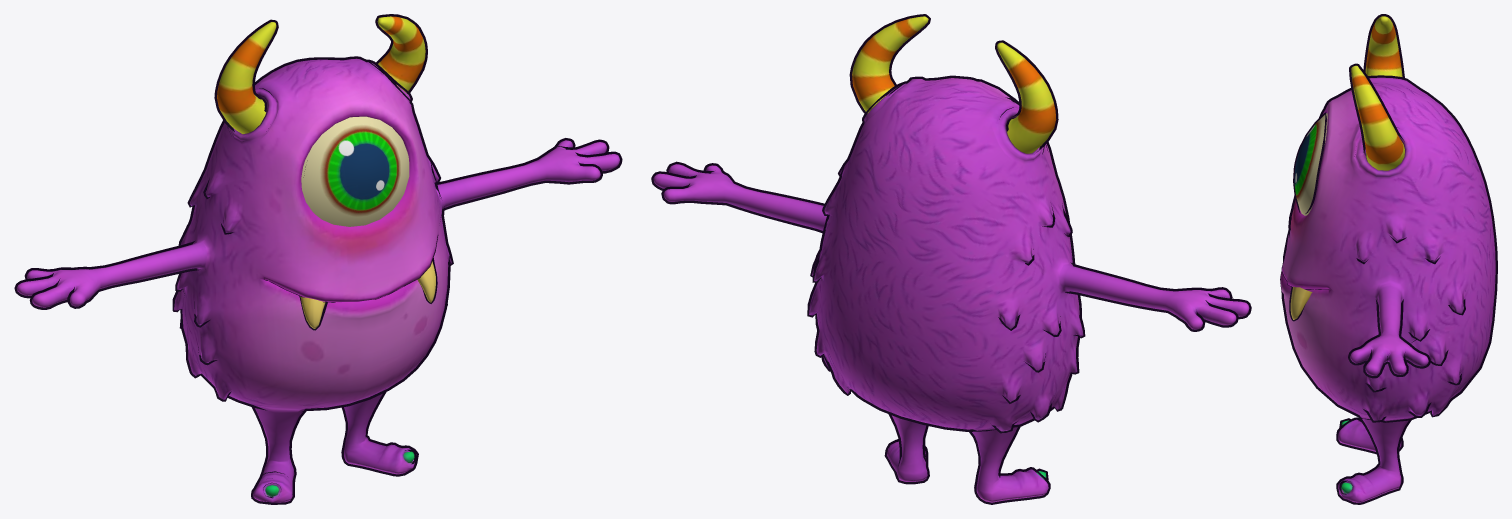
File: kit_monster_c.glb
3 views of the same model, side by side, from view 1: azimuth 30°, elevation 25°; view 2: azimuth 150°, elevation 25°; view 3: azimuth 270°, elevation 25° (orthographic). The views are drawn at different scales.
Parts seen in each view (by area): view 1: geo_monster_C_body, geo_monster_C_eye, geo_monster_C_outLine; view 2: geo_monster_C_body, geo_monster_C_outLine; view 3: geo_monster_C_body, geo_monster_C_outLine, geo_monster_C_eye.
Boxes of the visible parts, x1,y1,x2,y2 form: geo_monster_C_body: (17,16,619,502); geo_monster_C_eye: (301,116,409,226); geo_monster_C_outLine: (14,14,622,504); geo_monster_C_body: (653,16,1249,502); geo_monster_C_outLine: (651,14,1251,504); geo_monster_C_body: (1280,16,1495,502); geo_monster_C_outLine: (1280,14,1497,504); geo_monster_C_eye: (1294,113,1327,215).
Size of the model in its own units: 0.88 by 0.6596 by 0.3008.
Materials: 3 (2 with a texture image).
